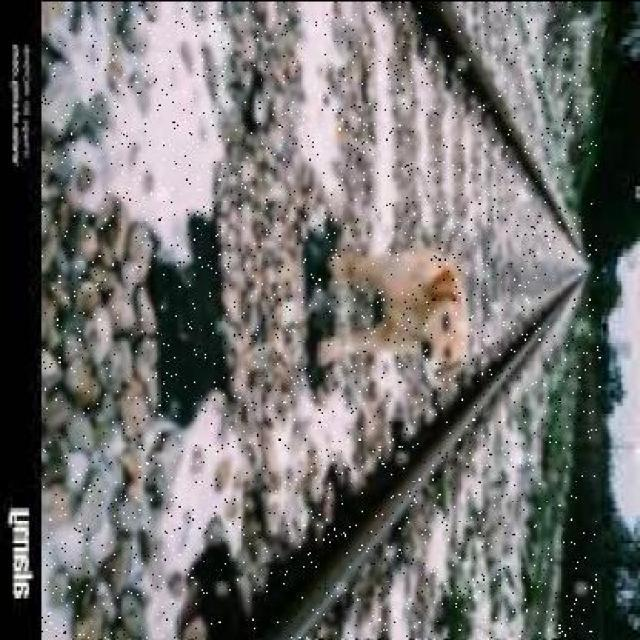rail: (43, 4, 601, 637)
